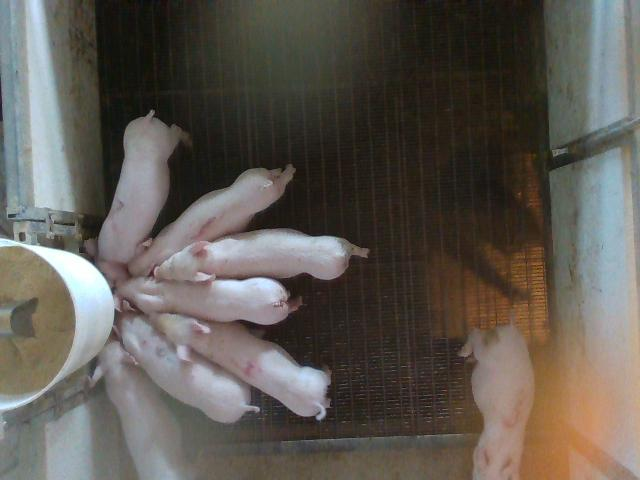pig-1: (129, 164, 295, 276)
pig-3: (464, 322, 534, 478)
pig-4: (150, 314, 331, 419)
